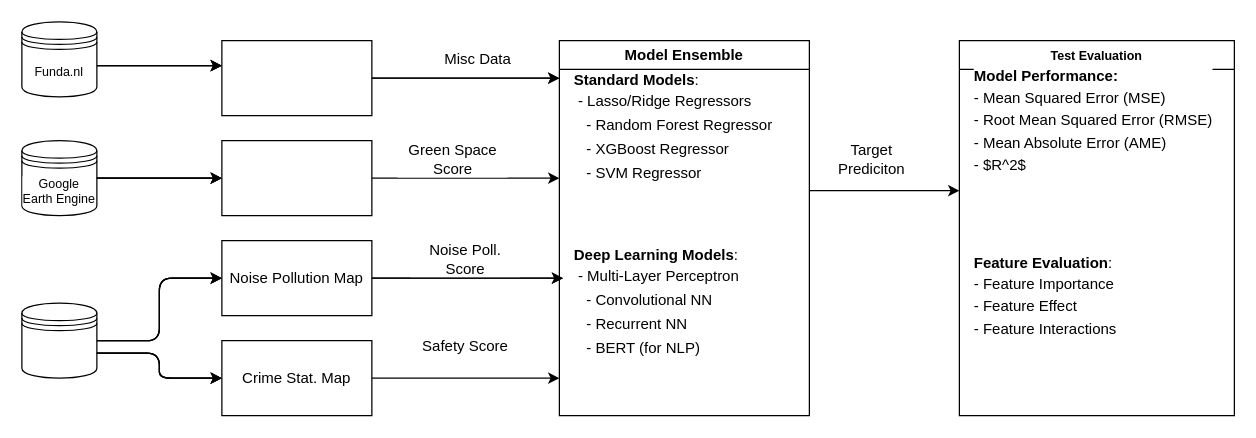
This 1256x438 diagram has some shape labels left out. Here are the shapes that lost their labels. From the top down, the centre of each, then its label:
pixel 296 77: Property Listing Data
pixel 296 177: Landsat Images
pixel 59 340: Amsterdam Gementee
